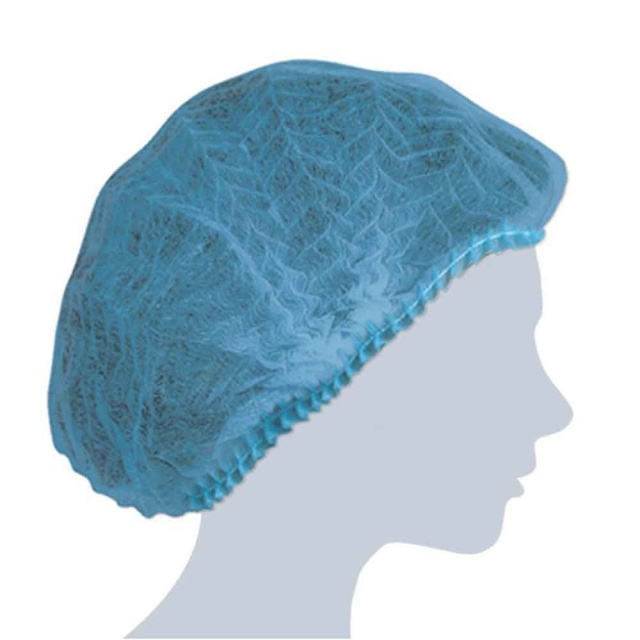Hairnet: (115, 84, 443, 401)
